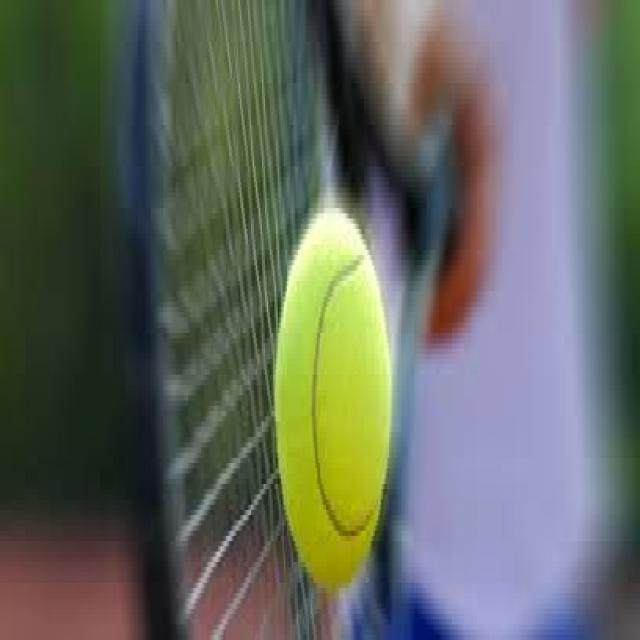Tennis-Ball: (273, 204, 399, 604)
